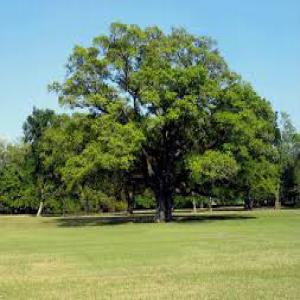Tree: (19, 16, 279, 222)
